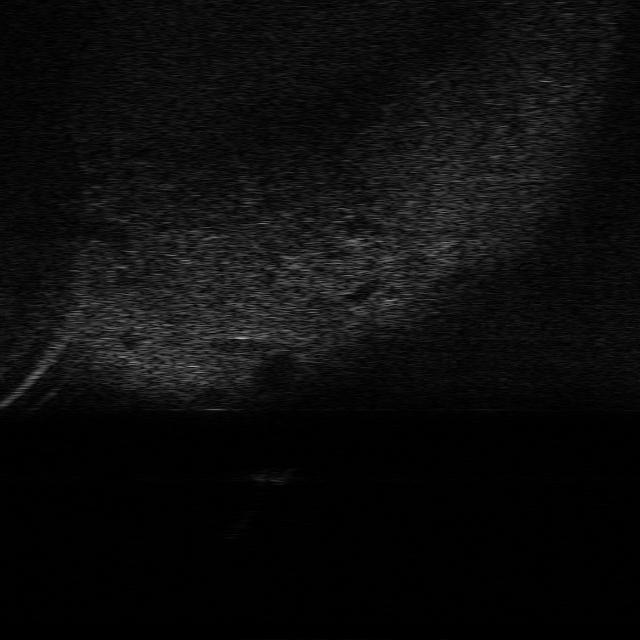cube: (253, 463, 295, 485)
